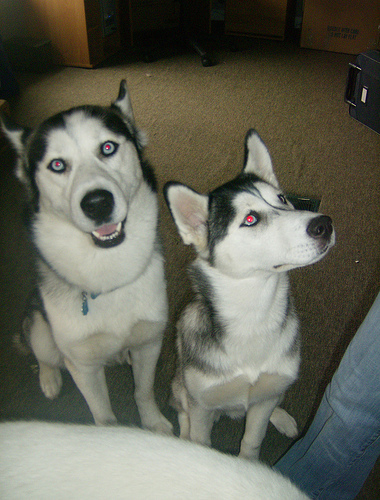dog: (0, 77, 175, 436), (162, 127, 338, 461)
